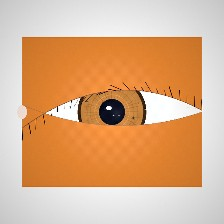pterygium_lesion: (135, 85, 204, 139)
